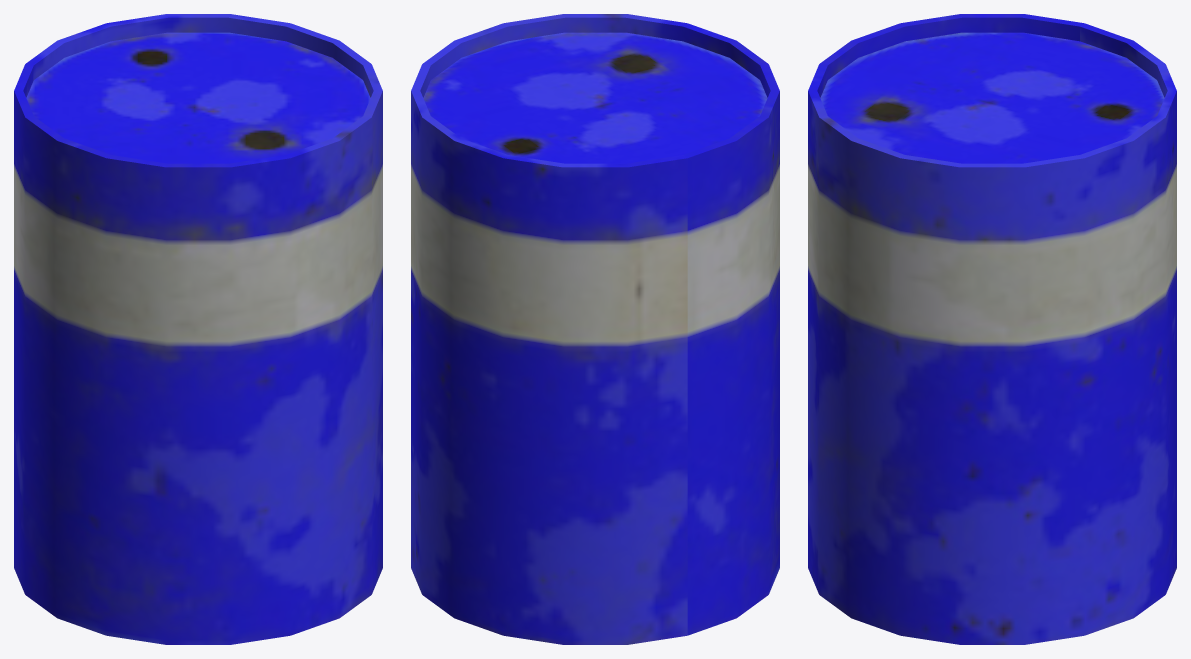
File: metal_drum_3.fbx
3 renders of one model, left to right at view 1: azimuth 30°, elevation 25°; view 2: azimuth 150°, elevation 25°; view 3: azimuth 270°, elevation 25°, orthographic.
Parts seen in each view (by area): view 1: Barrel1__4_1; view 2: Barrel1__4_1; view 3: Barrel1__4_1.
Part boxes in pixels (x1,y1,x2,y2): Barrel1__4_1: (14, 14, 382, 644); Barrel1__4_1: (411, 14, 779, 644); Barrel1__4_1: (808, 14, 1176, 644).
Bounding box in the file's own units: 58.27 × 84.53 × 59.17.
